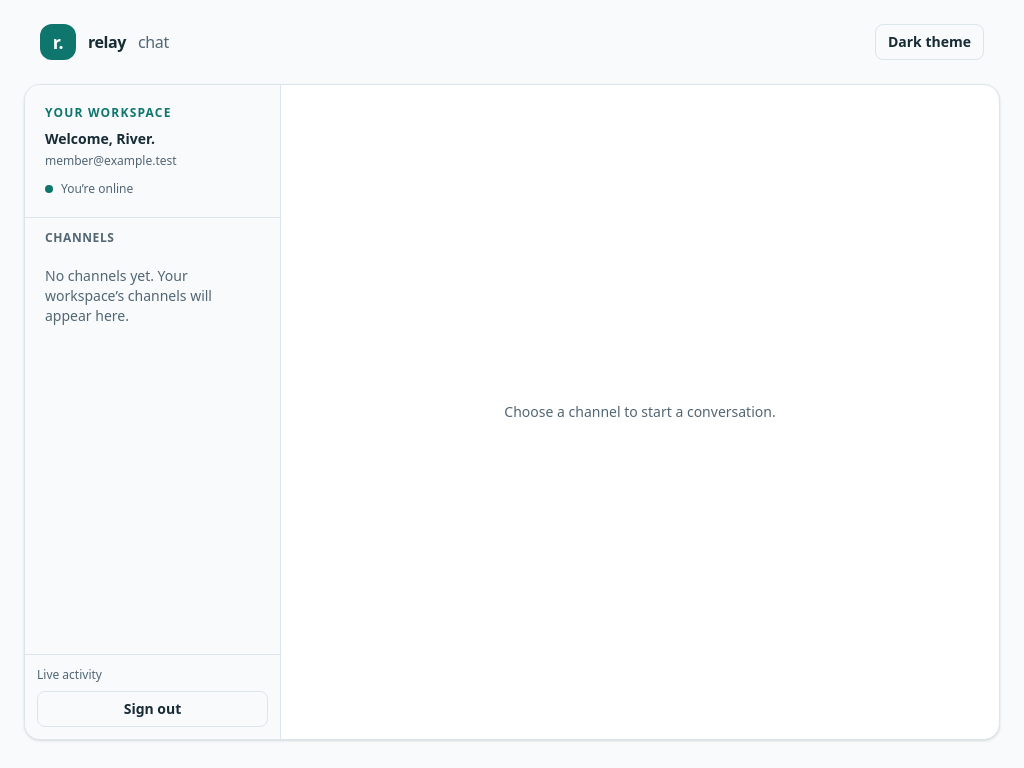
Test: web app smoke test › keeps the session visible when logout fails
Expected: the heading "Welcome, River." is shown, [45,129,155,148]
Click the button "Sign out": [152, 709] box [37,691,268,727]
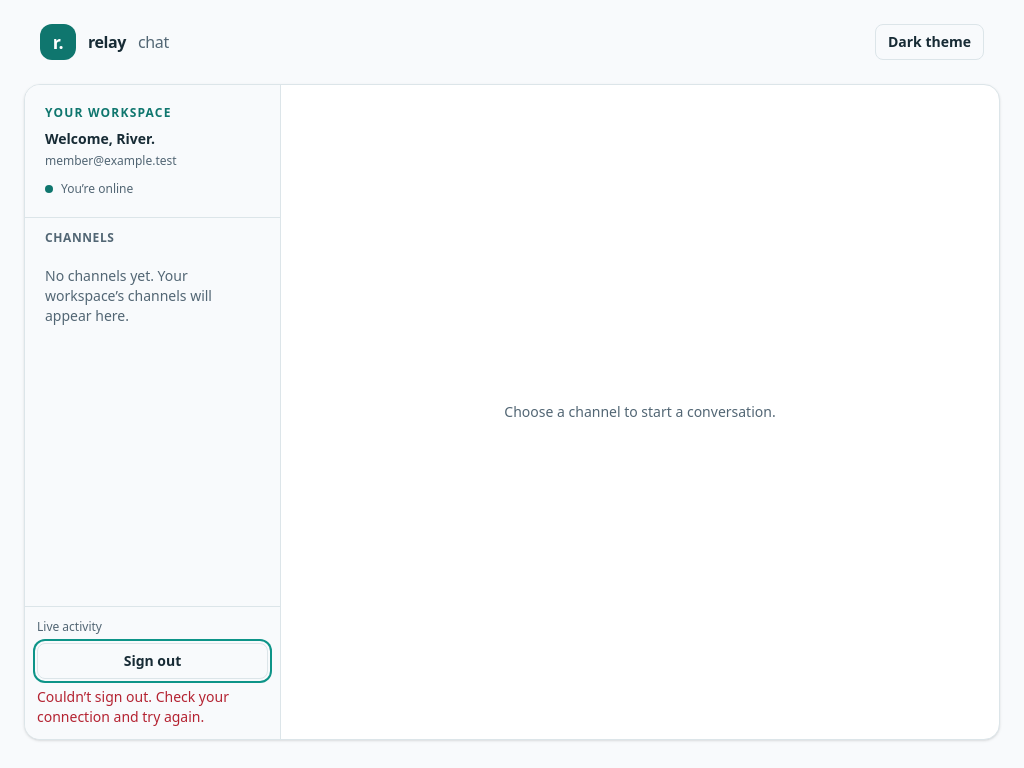
Expected: the heading "Welcome, River." is shown, [45,129,155,148]
Now the message reads "Couldn’t sign out. Check your connection and try again.", box [37,687,229,726]
